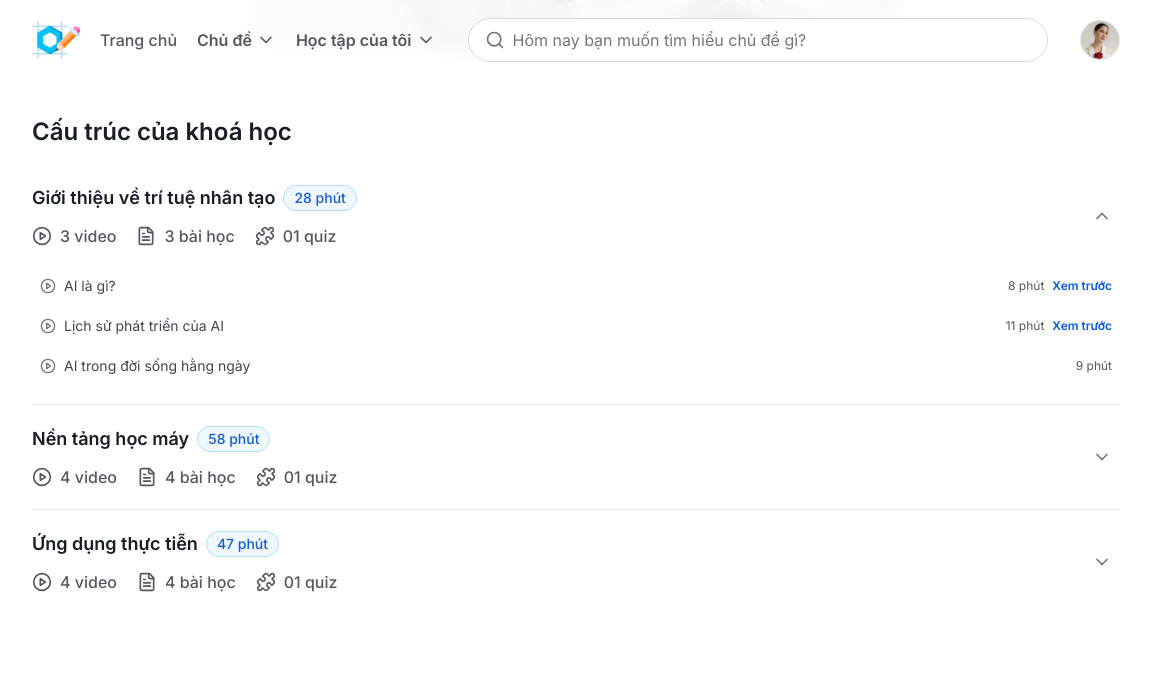
Test: CourseDetailPage › opens the first curriculum section by default and expands others on click
(page scrolled)
Expected: the text "AI là gì?" is shown, [64,277,116,294]
Expected: the text "Dữ liệu và đặc trưng" is not shown
Click the button "Nền tảng học máy 58 phút 4 video 4 bài học 01 quiz" at [111, 438], box [32,405,1120,509]
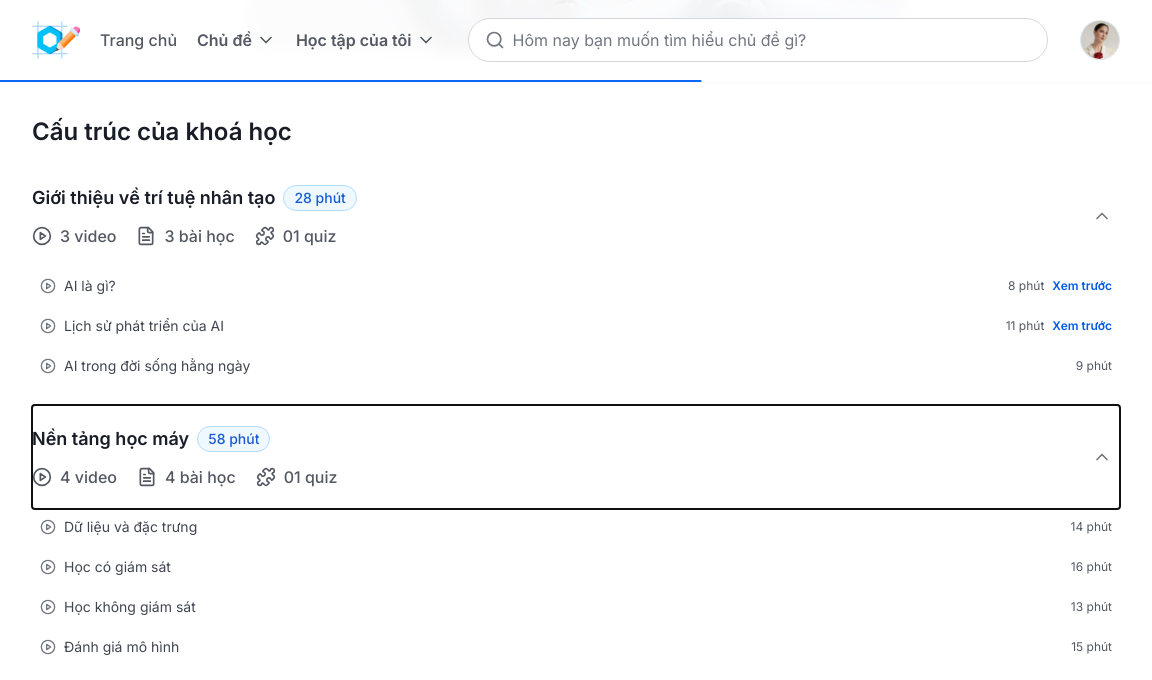
Now the text "Dữ liệu và đặc trưng" is shown, box [64,518,197,535]
